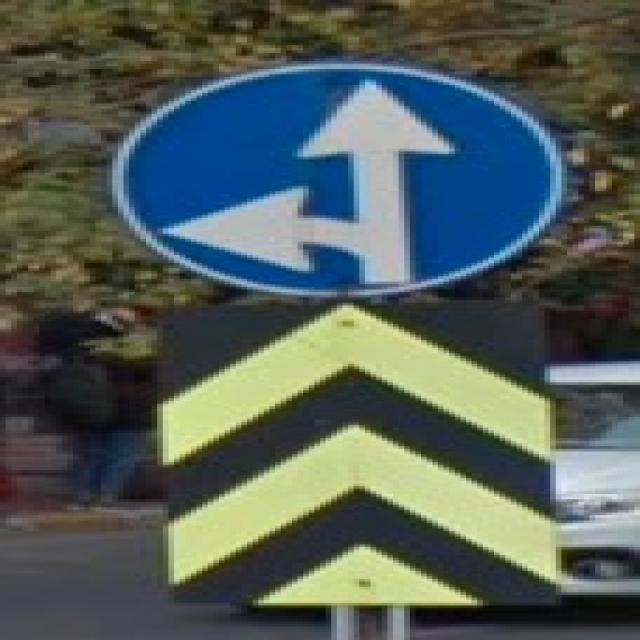Straight or Left: (108, 64, 568, 297)
